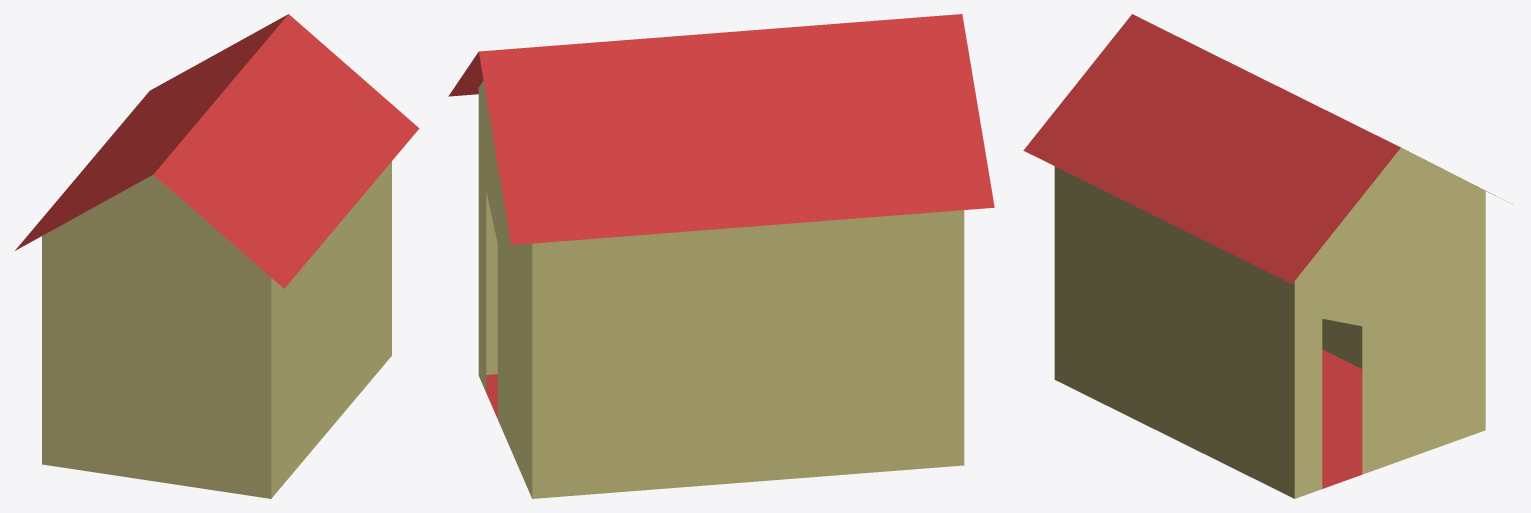
The picture shows the model from 3 angles, left to right: view 1: azimuth 30°, elevation 25°; view 2: azimuth 150°, elevation 25°; view 3: azimuth 270°, elevation 25°; orthographic projection. The views are drawn at different scales.
Size of the model in its own units: 17.2 by 16.74 by 12.19.
